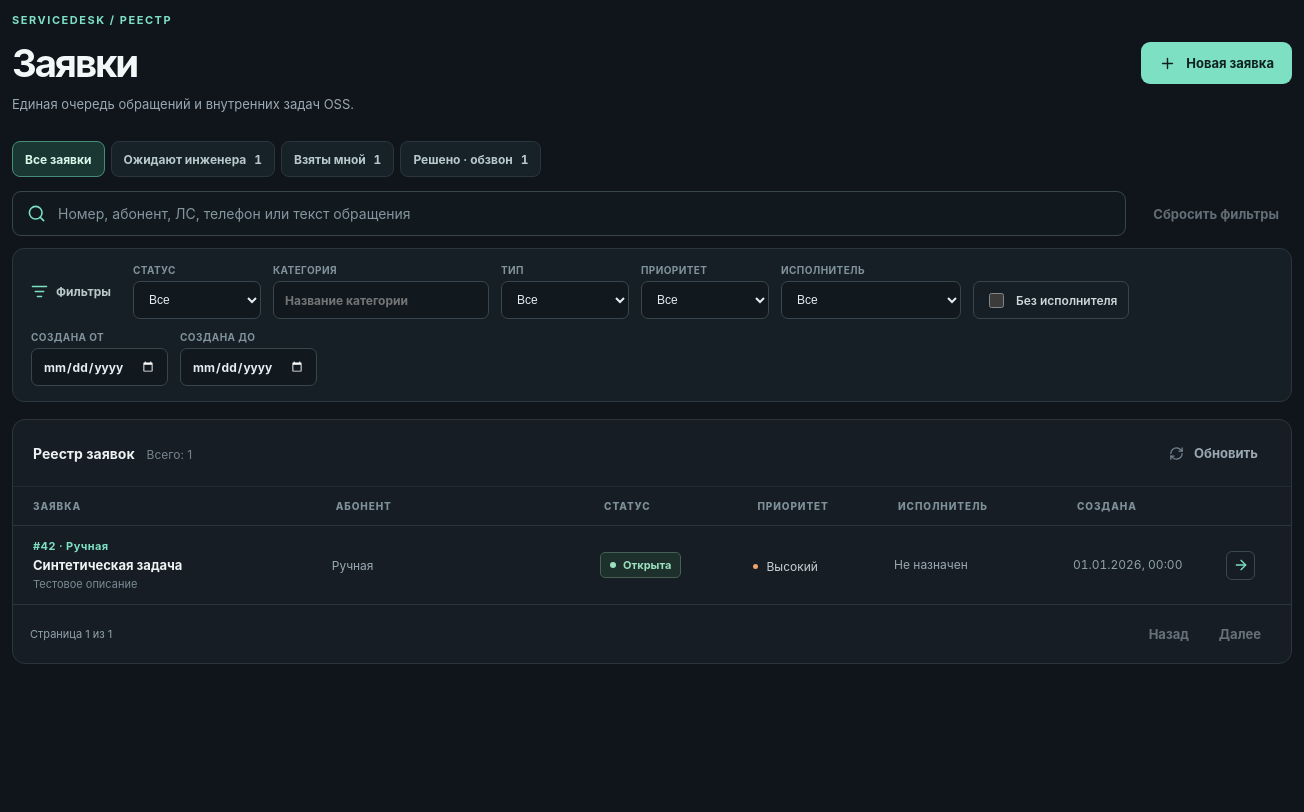
it: debounces the universal search and hides stale results while the query changes
Expected: the text "Синтетическая задача" is shown, x1=33 y1=557 x2=182 y2=573
Type "1499" into the search field named "Поиск по заявкам" at (584, 214), box x1=56 y1=204 x2=1111 y2=223
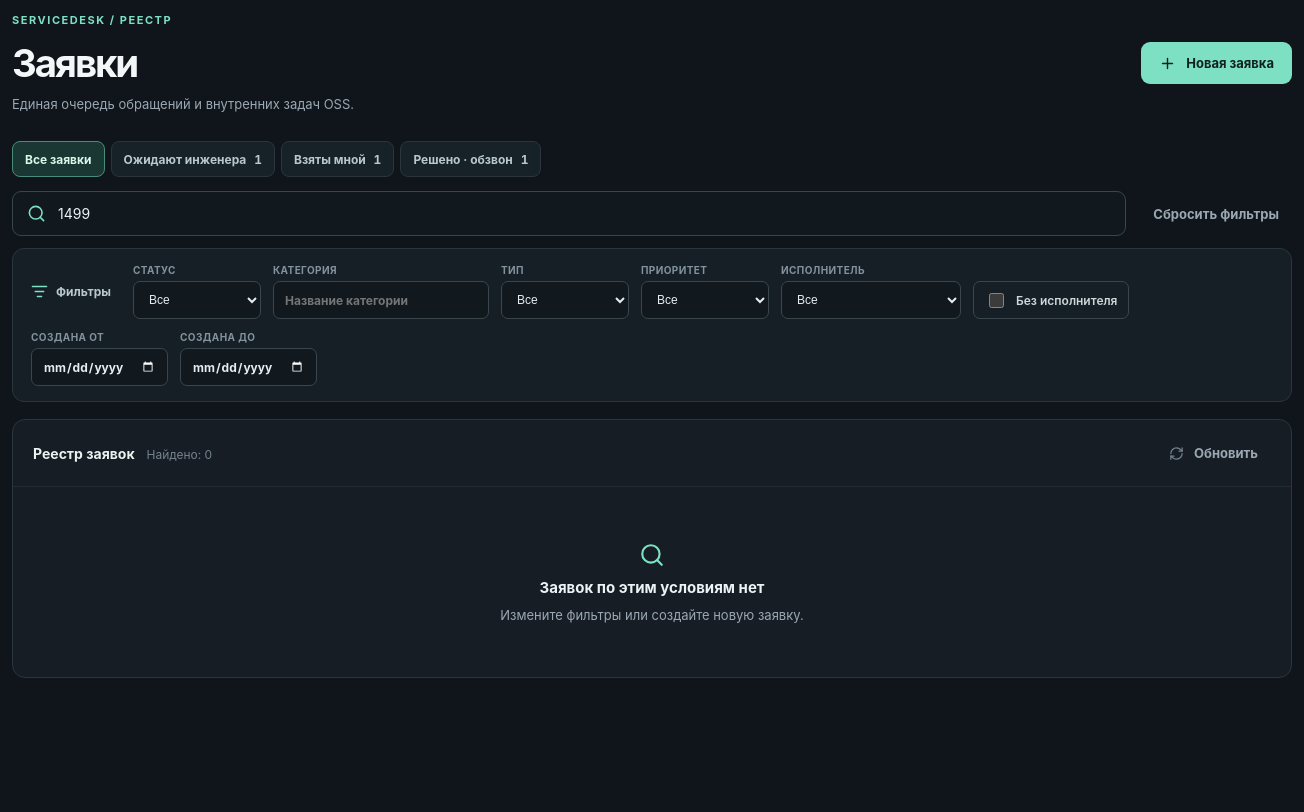
Expected: the text "Обновляем поиск…" is shown, x1=500 y1=542 x2=804 y2=623
Expected: the link "Синтетическая задача" is gone
Expected: the text "Заявок по этим условиям нет" is shown, x1=540 y1=578 x2=764 y2=597
